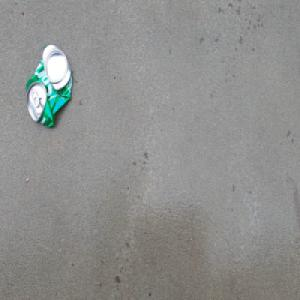SodaCan: (24, 41, 74, 129)
